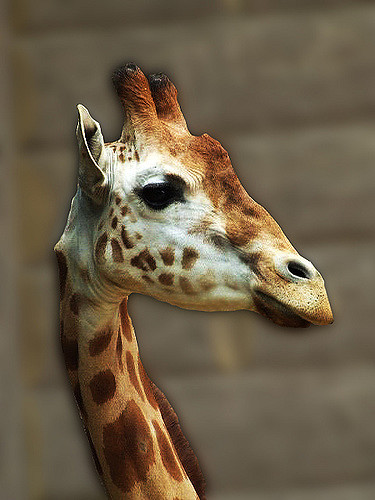giraffe: (57, 64, 344, 480)
